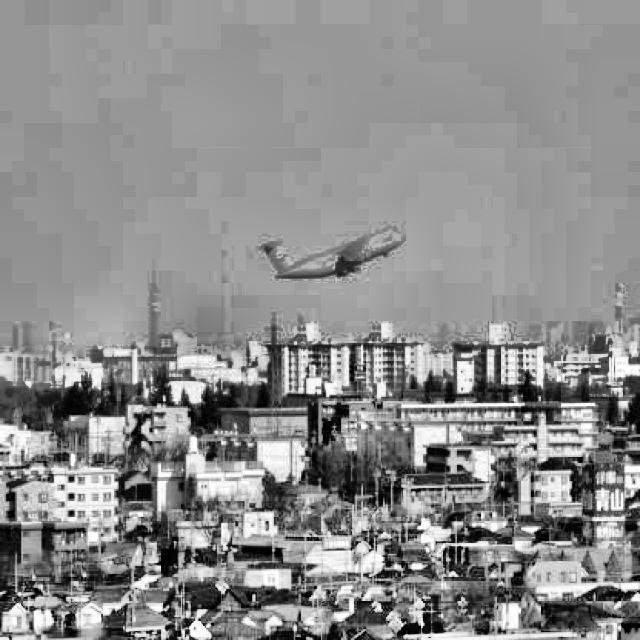C5: (256, 226, 406, 280)
